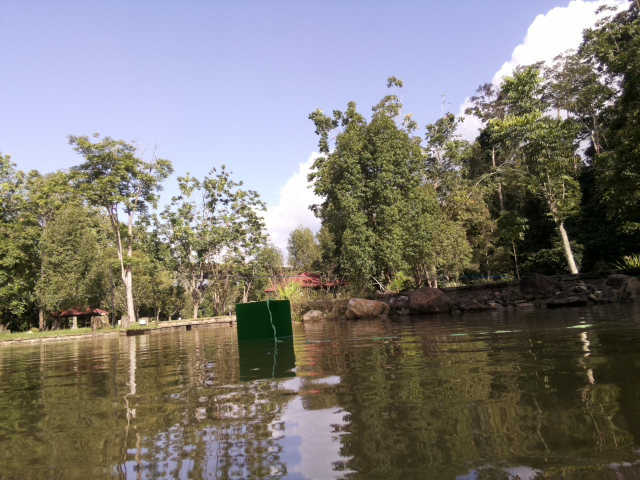obstacle: (280, 337, 315, 409)
